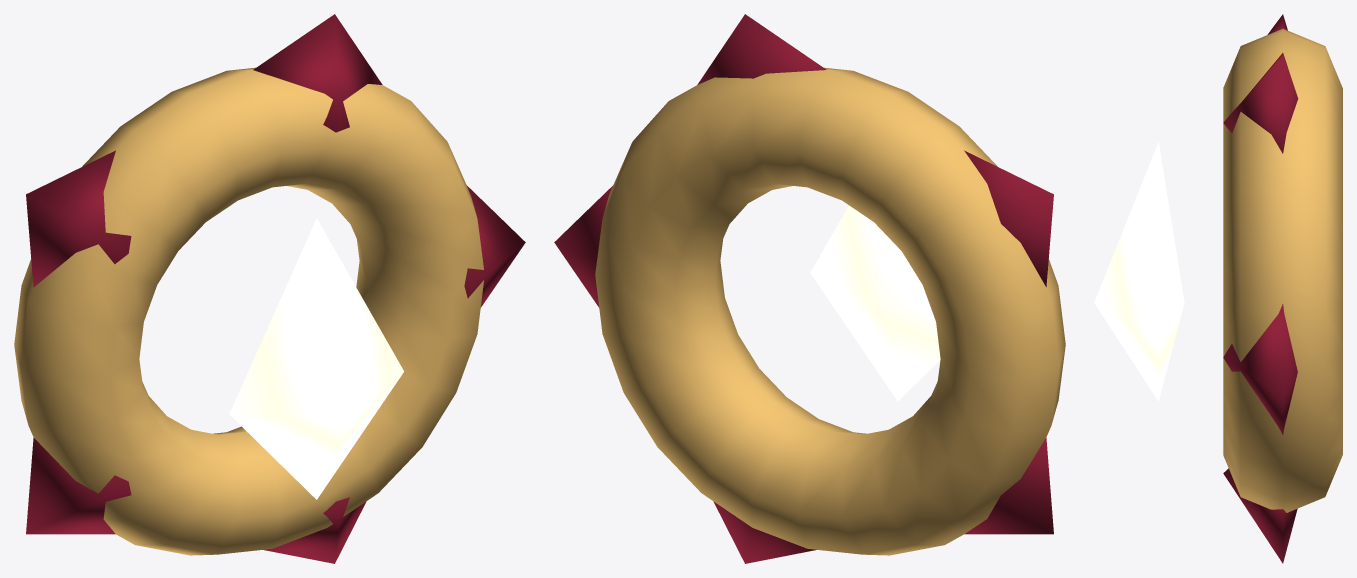
File: boss_crimson_glory_accessory_2.glb
The picture shows the model from 3 angles, left to right: view 1: azimuth 30°, elevation 25°; view 2: azimuth 150°, elevation 25°; view 3: azimuth 270°, elevation 25°; orthographic projection. The views are drawn at different scales.
Visible parts, largest first — view 1: Boss_crimson_glory_1, Boss_crimson_glory_2, Boss_crimson_glory_0; view 2: Boss_crimson_glory_1, Boss_crimson_glory_0, Boss_crimson_glory_2; view 3: Boss_crimson_glory_1, Boss_crimson_glory_2, Boss_crimson_glory_0.
Part boxes in pixels (x1=…): Boss_crimson_glory_1: x1=14, y1=67, x2=483, y2=555; Boss_crimson_glory_2: x1=229, y1=218, x2=403, y2=499; Boss_crimson_glory_0: x1=26, y1=14, x2=525, y2=563; Boss_crimson_glory_1: x1=595, y1=67, x2=1065, y2=555; Boss_crimson_glory_0: x1=554, y1=14, x2=1053, y2=563; Boss_crimson_glory_2: x1=810, y1=205, x2=940, y2=401; Boss_crimson_glory_1: x1=1223, y1=28, x2=1342, y2=512; Boss_crimson_glory_2: x1=1094, y1=142, x2=1184, y2=401; Boss_crimson_glory_0: x1=1223, y1=14, x2=1298, y2=563.
Bounding box in the file's own units: 0.117 × 0.1217 × 0.054.
